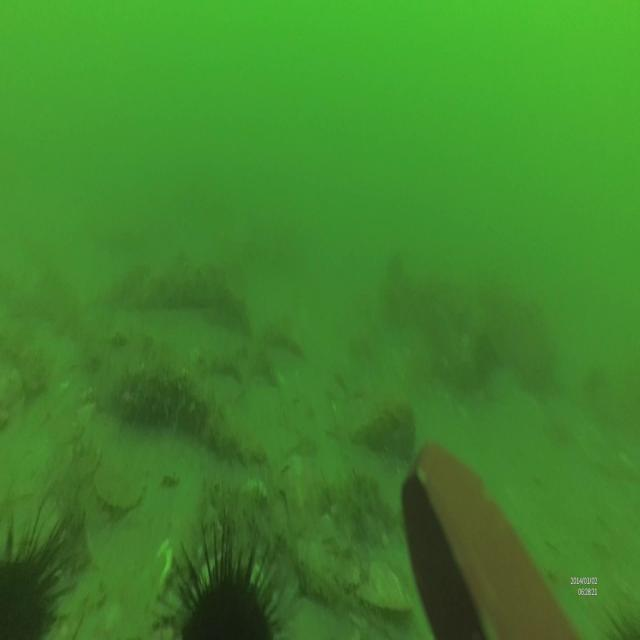echinus: (167, 519, 287, 640), (1, 498, 76, 640)
